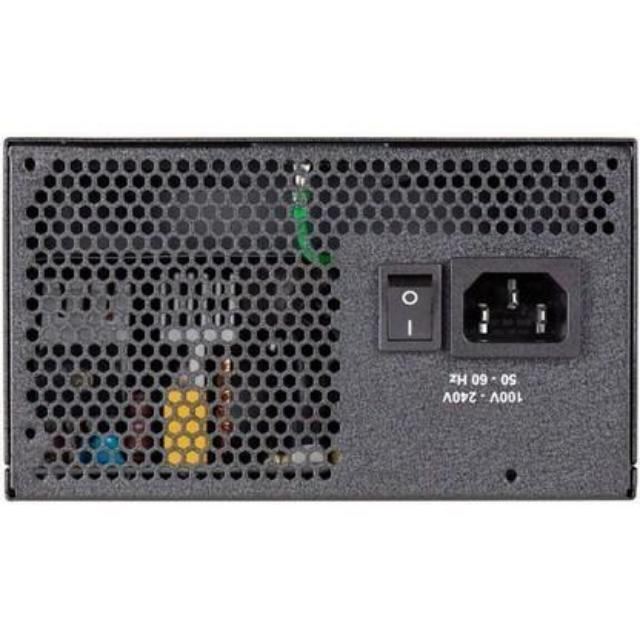PSU: (0, 126, 640, 520)
